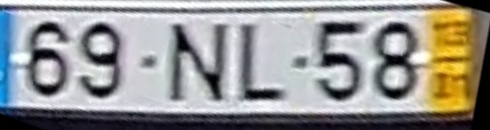5: (311, 17, 365, 106)
6: (20, 19, 71, 103)
8: (368, 14, 420, 105)
9: (73, 19, 125, 106)
L: (237, 19, 286, 107)
N: (163, 20, 231, 107)
